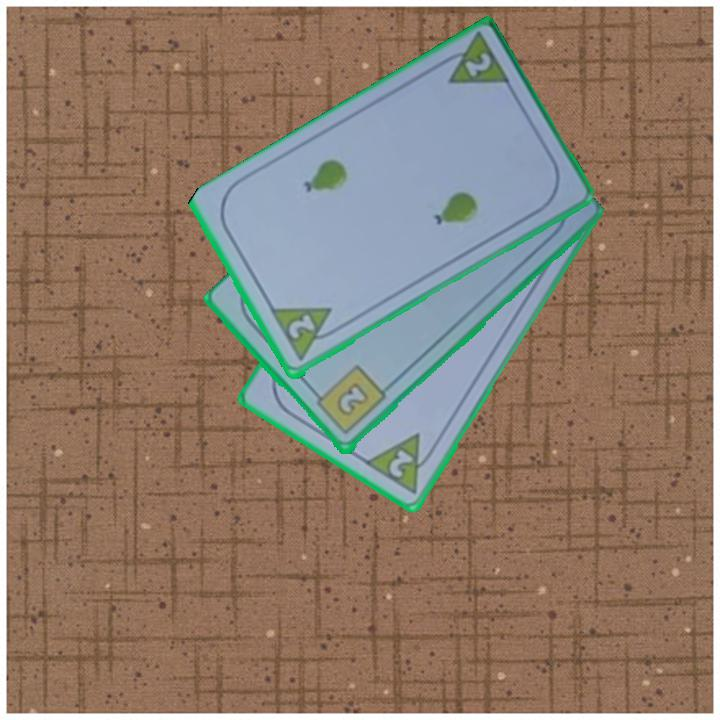2b: (308, 362, 389, 439)
2p: (361, 430, 440, 498), (267, 303, 344, 366), (460, 49, 494, 81)
